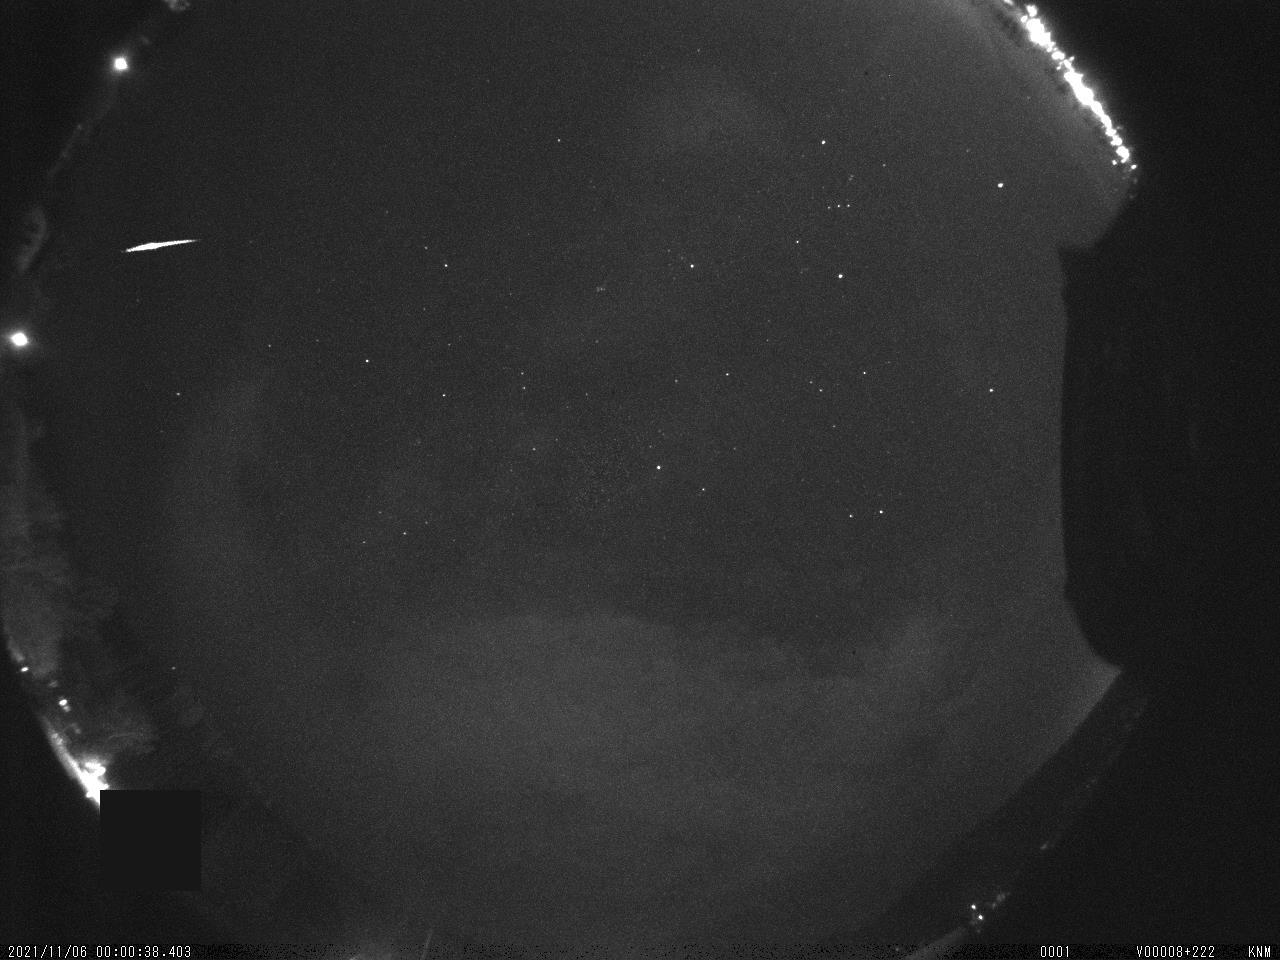meteor: (113, 232, 208, 258)
